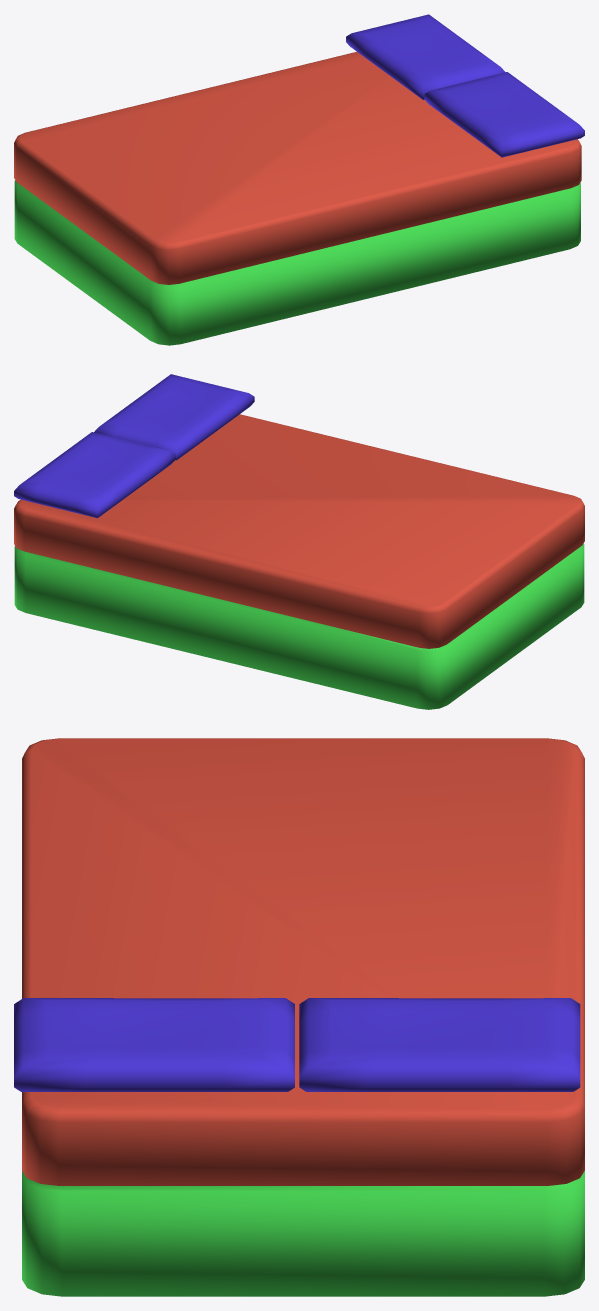
The model's file is bed.fbx.
3 renders of one model, top to bottom at view 1: azimuth 30°, elevation 25°; view 2: azimuth 150°, elevation 25°; view 3: azimuth 270°, elevation 25°, orthographic. The views are drawn at different scales.
Parts seen in each view (by area): view 1: Cube; view 2: Cube; view 3: Cube.
Part boxes in pixels (bbox=[...]): Cube: bbox=[14, 14, 584, 345]; Cube: bbox=[14, 374, 584, 709]; Cube: bbox=[14, 738, 584, 1296].
Bounding box in the file's own units: 319 × 88.32 × 203.
